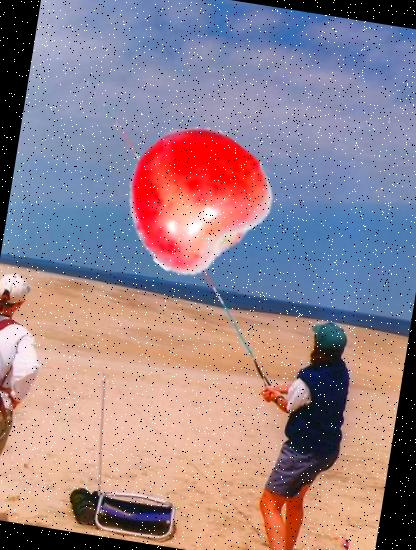Cherry: (111, 119, 277, 285)
